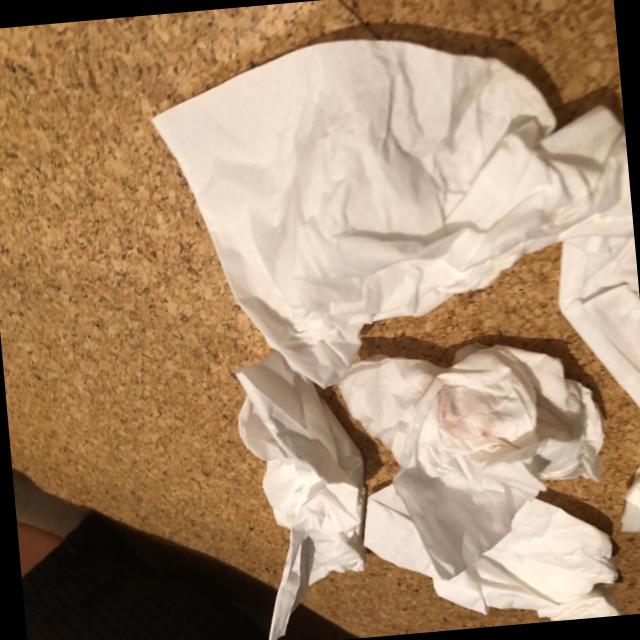organic waste: (141, 10, 640, 394), (331, 328, 611, 582), (528, 102, 640, 598), (352, 452, 626, 637), (220, 330, 380, 640)
